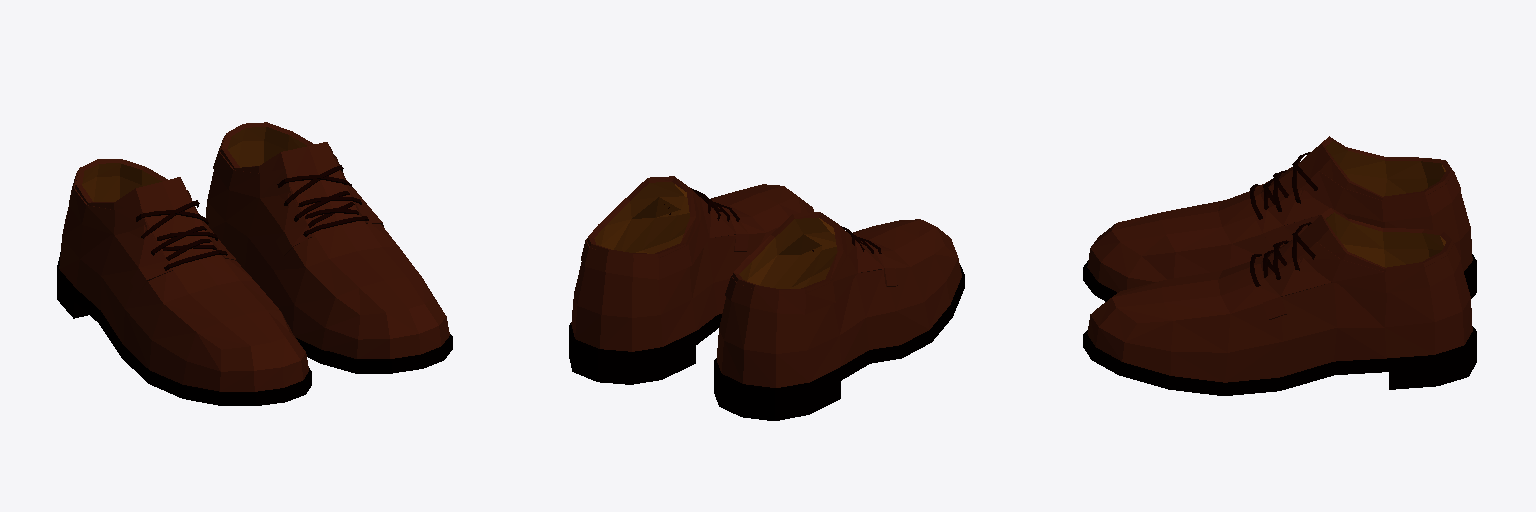
The model's file is shoes.obj.
3 renders of one model, left to right at view 1: azimuth 30°, elevation 25°; view 2: azimuth 150°, elevation 25°; view 3: azimuth 270°, elevation 25°, orthographic.
Size of the model in its own units: 2.01 by 1.09 by 2.52.